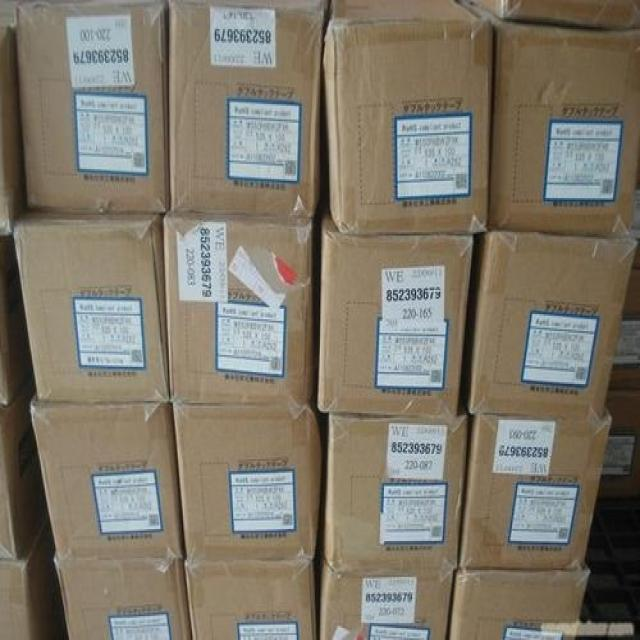box: (463, 1, 639, 234), (324, 2, 491, 237), (164, 1, 330, 212), (312, 211, 475, 418), (461, 230, 639, 418), (13, 198, 170, 402), (18, 3, 168, 211), (163, 213, 318, 404), (459, 399, 615, 570), (27, 391, 183, 556), (314, 410, 468, 572), (173, 405, 324, 562), (318, 554, 455, 638), (450, 556, 591, 637), (55, 555, 191, 638), (186, 560, 316, 638), (575, 495, 639, 638), (0, 373, 48, 559), (0, 514, 67, 638), (1, 229, 35, 405), (0, 1, 25, 232), (468, 2, 638, 29), (600, 384, 639, 497), (611, 243, 639, 389), (628, 167, 639, 242)
